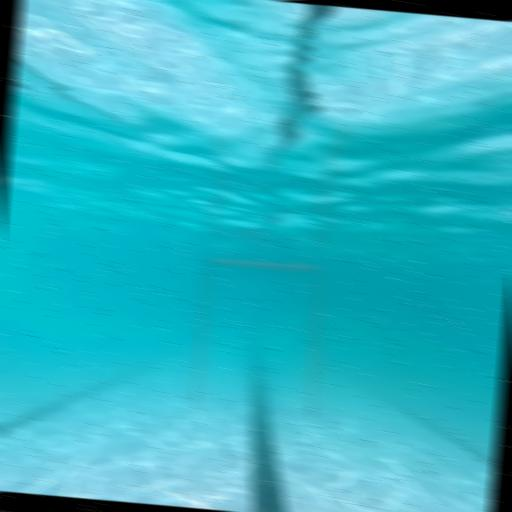gate: (191, 257, 330, 416)
